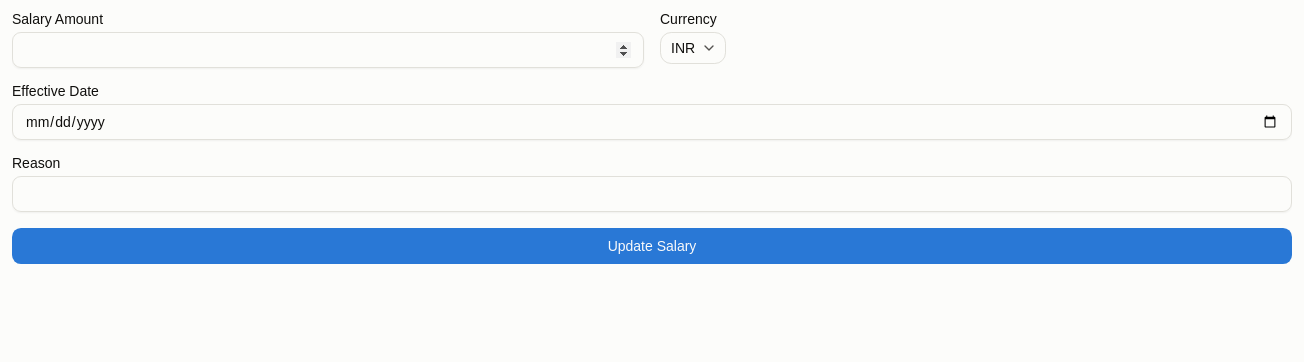
Test case: UpdateSalaryForm › shows validation errors and does not submit when required fields are empty
Click the button "Update Salary": click(652, 246) [12,228,1292,264]
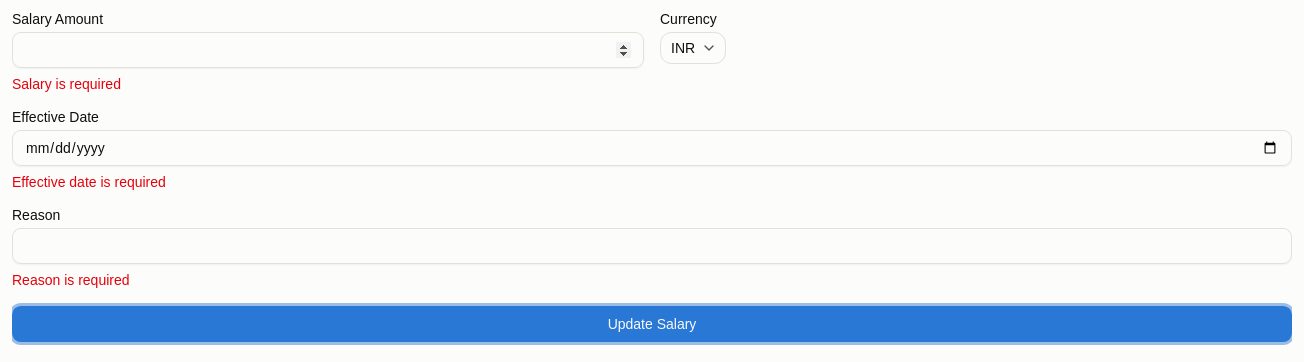
Result: the text "Salary is required" is shown at [12,76,121,92]
